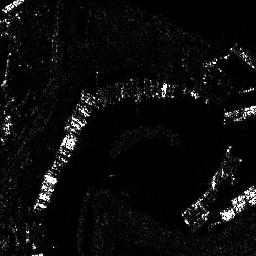ship: (71, 115, 86, 131), (37, 191, 51, 204), (58, 147, 71, 159), (44, 175, 59, 184), (41, 184, 54, 194), (34, 200, 47, 209)
